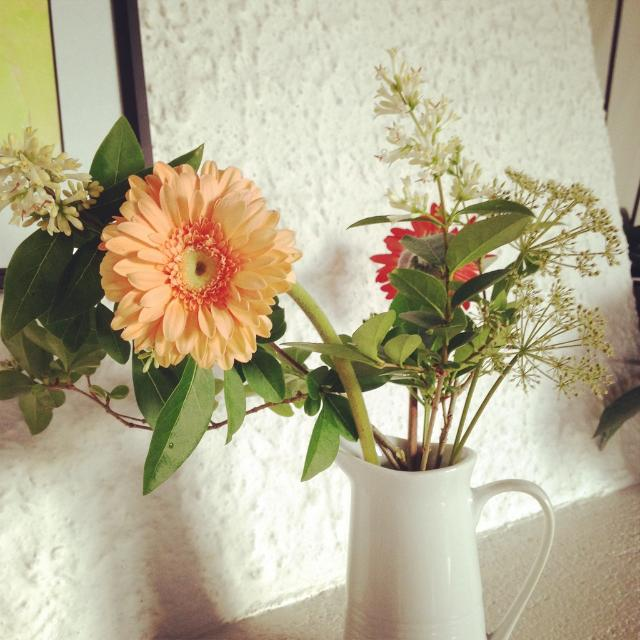Flower: (92, 152, 302, 376), (369, 44, 497, 312), (0, 119, 104, 238)
